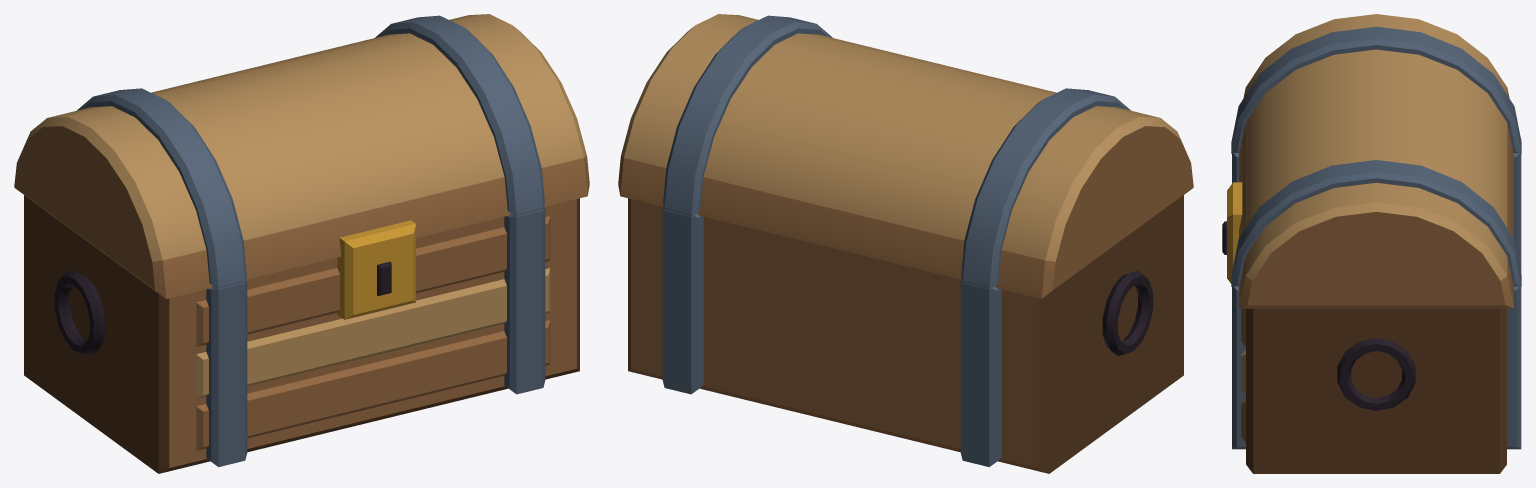
The model's file is Chest_05.glb.
3 renders of one model, left to right at view 1: azimuth 30°, elevation 25°; view 2: azimuth 150°, elevation 25°; view 3: azimuth 270°, elevation 25°, orthographic. The views are drawn at different scales.
Visible parts, largest first — view 1: Chest_05; view 2: Chest_05; view 3: Chest_05.
Boxes of the visible parts, x1,y1,x2,y2 form: Chest_05: (14, 14, 589, 473); Chest_05: (618, 14, 1193, 473); Chest_05: (1222, 14, 1521, 473).
Bounding box in the file's own units: 4.06 × 2.61 × 2.52.
